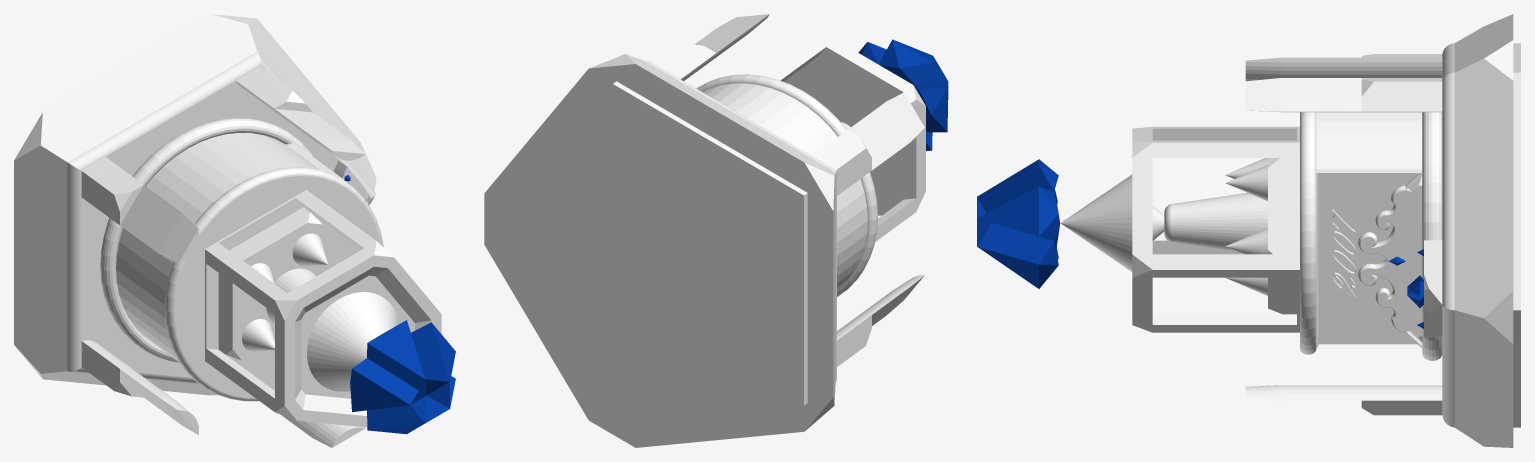
3 renders of one model, left to right at view 1: azimuth 30°, elevation 25°; view 2: azimuth 150°, elevation 25°; view 3: azimuth 270°, elevation 25°, orthographic. The views are drawn at different scales.
Visible parts, largest first — view 1: trophy; view 2: trophy; view 3: trophy.
Part boxes in pixels (left/top/right/bottom): trophy: left=14, top=14, right=455, bottom=447; trophy: left=484, top=14, right=948, bottom=447; trophy: left=977, top=14, right=1520, bottom=447.
Size of the model in its own units: 828 by 865 by 1065.
